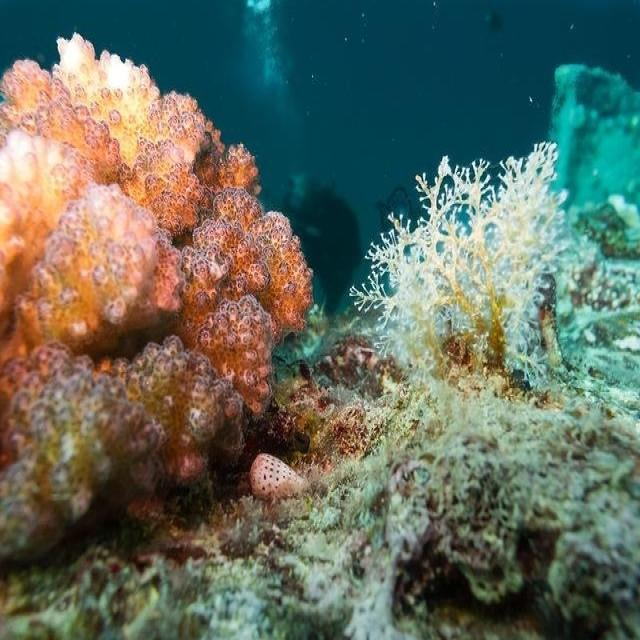reefs: (0, 32, 314, 564), (349, 142, 577, 394)
